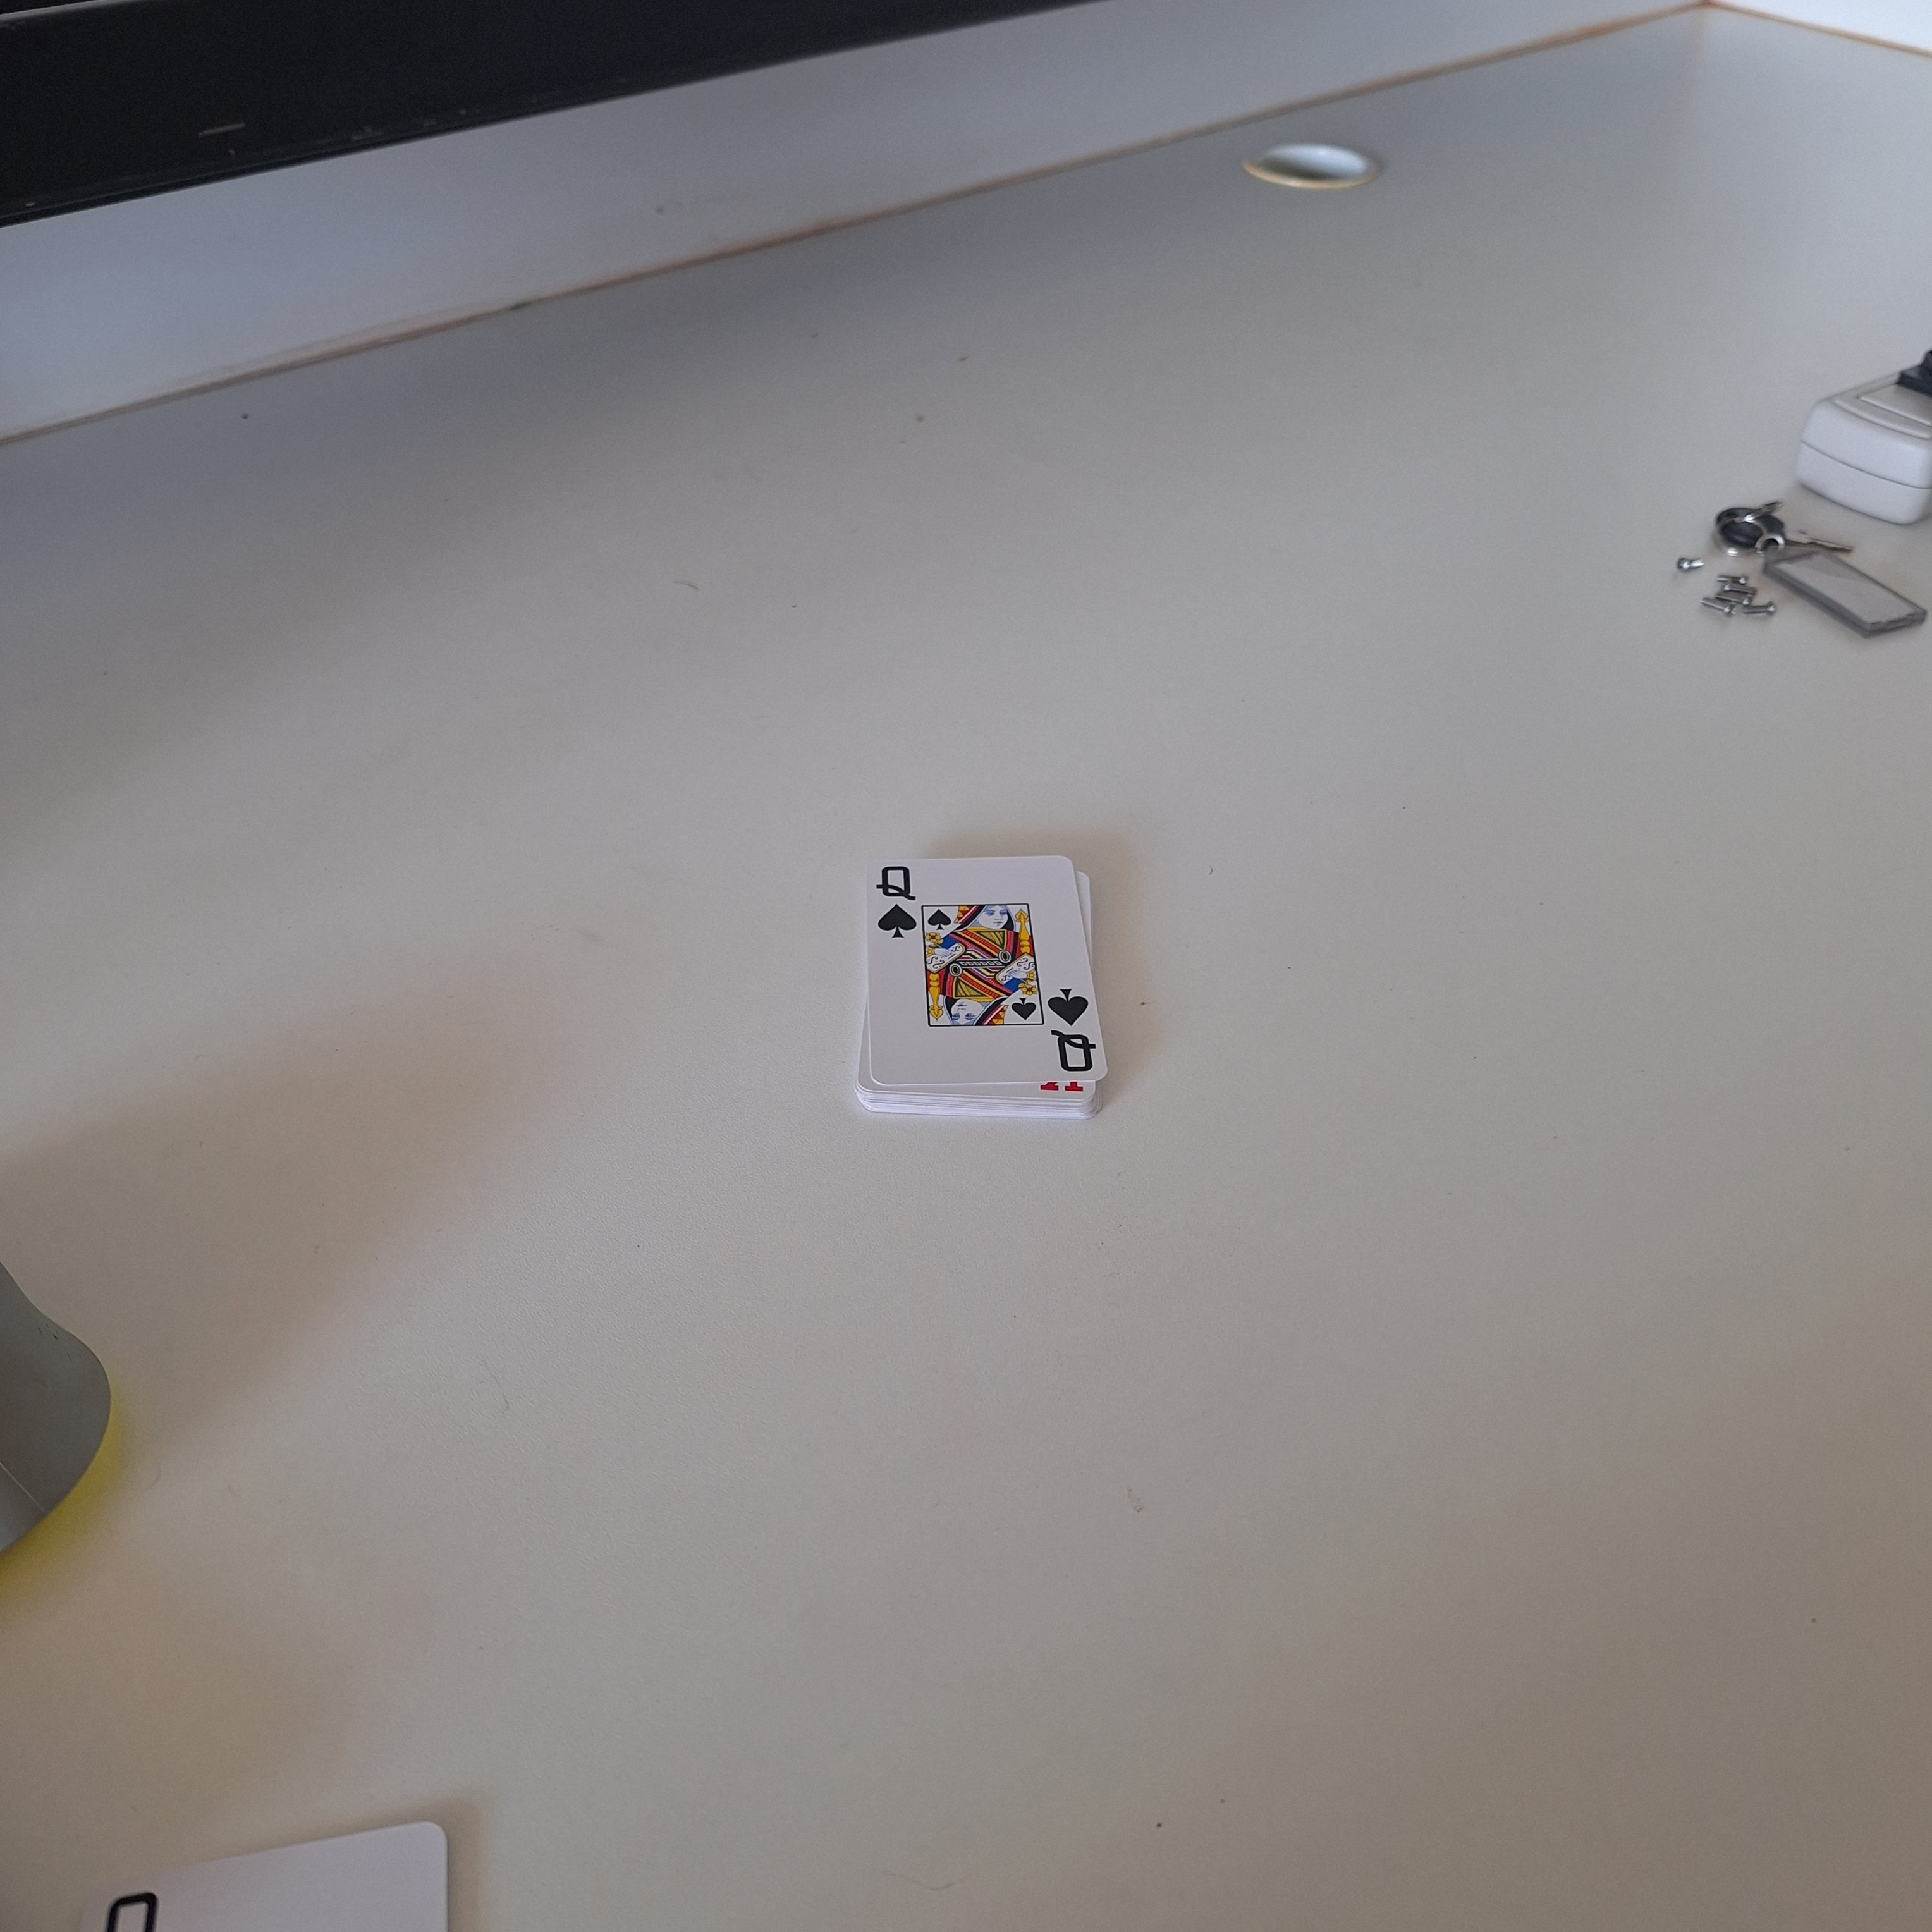QE: (1035, 977, 1106, 1079), (865, 856, 925, 943)
